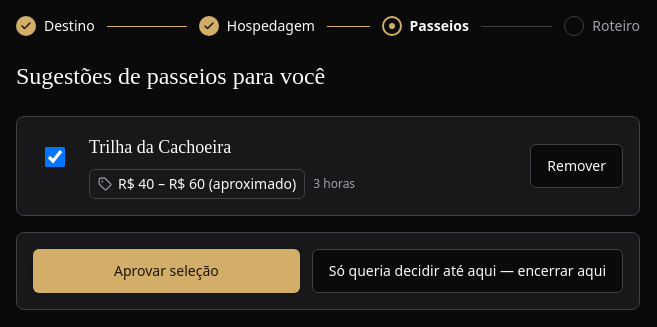
Test: PasseiosSugestoesScreen — estado Sucesso › critério de aceite: 'Aprovar seleção' desabilita com mensagem explicativa quando todos os itens são removidos, mas 'encerrar aqui' continua disponível
The image size is (657, 327).
Expected: the text "Trilha da Cachoeira" is shown, [89,137,231,157]
Step 1. Click the button "Remover" → (577, 166), box [530,144,623,188]
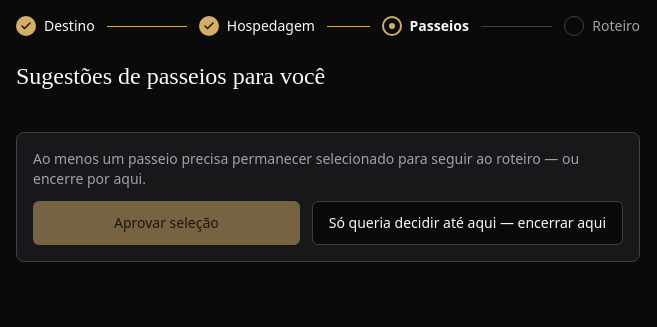
Expected: the button "Só queria decidir até aqui — encerrar aqui" is enabled, [312,201,623,245]
Result: the button "Aprovar seleção" is disabled at [33,201,300,245]
Result: the text "Ao menos um passeio precisa permanecer selecionado para seguir ao roteiro — ou encerre por aqui." is shown at [33,149,579,188]
